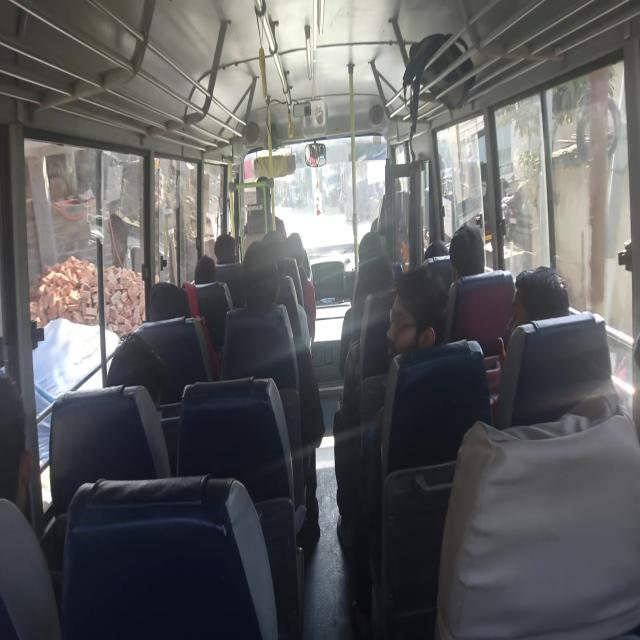person: (335, 267, 440, 635), (227, 240, 324, 544), (0, 374, 61, 638), (485, 264, 570, 422), (505, 264, 570, 342), (106, 332, 169, 411), (0, 374, 34, 517), (385, 268, 438, 358), (449, 224, 485, 281), (213, 233, 237, 265), (194, 254, 216, 285)
